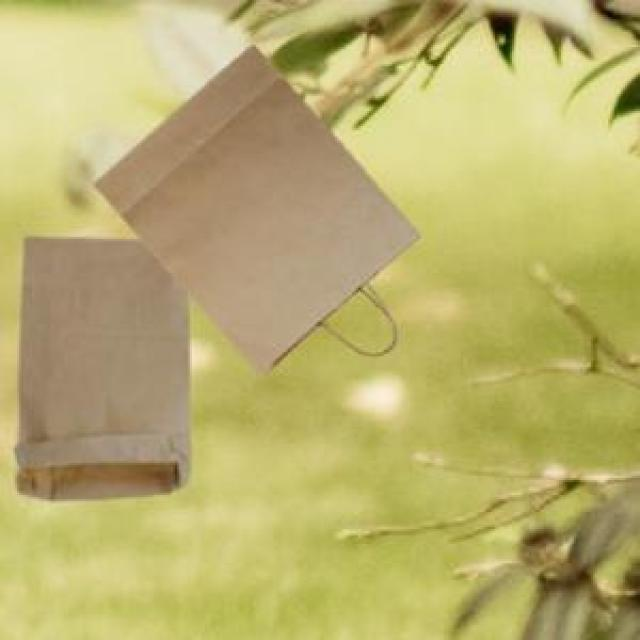paper: (90, 41, 416, 369), (11, 233, 184, 497)
